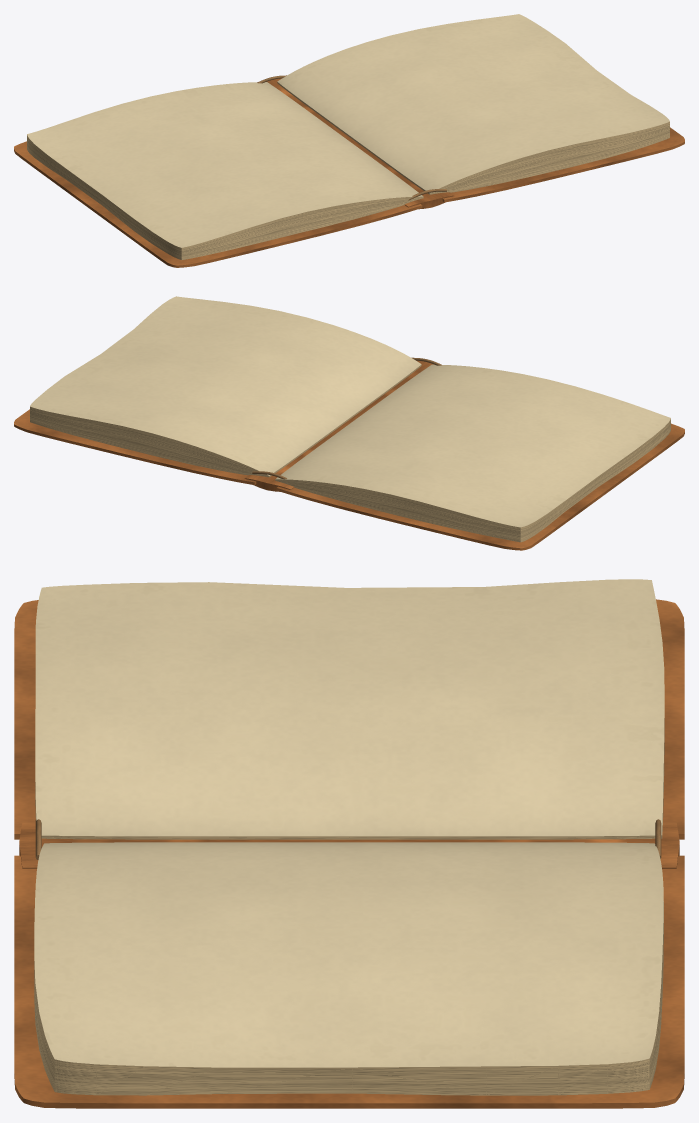
File: OpenBook_04.fbx
The picture shows the model from 3 angles, top to bottom: view 1: azimuth 30°, elevation 25°; view 2: azimuth 150°, elevation 25°; view 3: azimuth 270°, elevation 25°; orthographic projection. The views are drawn at different scales.
Parts seen in each view (by area): view 1: OpenBook_04.001; view 2: OpenBook_04.001; view 3: OpenBook_04.001.
Part boxes in pixels (x1,y1,x2,y2): OpenBook_04.001: (14, 14, 684, 267); OpenBook_04.001: (14, 296, 684, 550); OpenBook_04.001: (14, 579, 684, 1108).
Size of the model in its own units: 0.375 by 0.0174 by 0.211.
